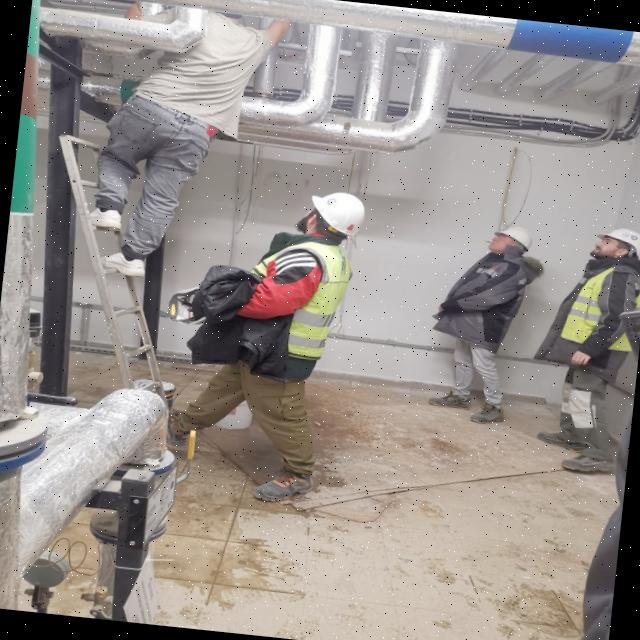Helmet: (307, 190, 367, 239), (596, 227, 640, 259), (493, 225, 536, 254)
Jacket: (280, 230, 353, 378), (565, 254, 640, 359)
NoJacket: (181, 14, 264, 127), (471, 249, 536, 347)
